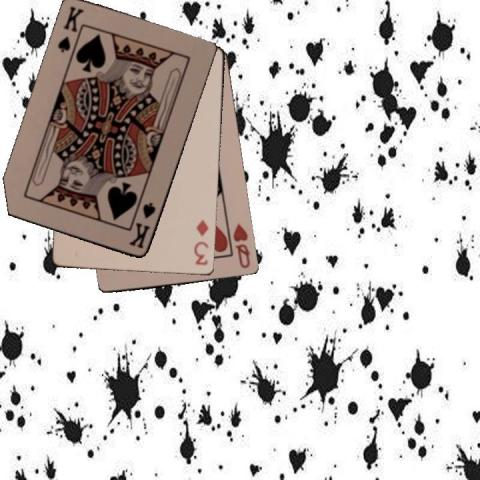3d: (191, 217, 210, 267)
Ks: (126, 199, 157, 251), (55, 3, 85, 55)
Qh: (230, 221, 252, 270)
